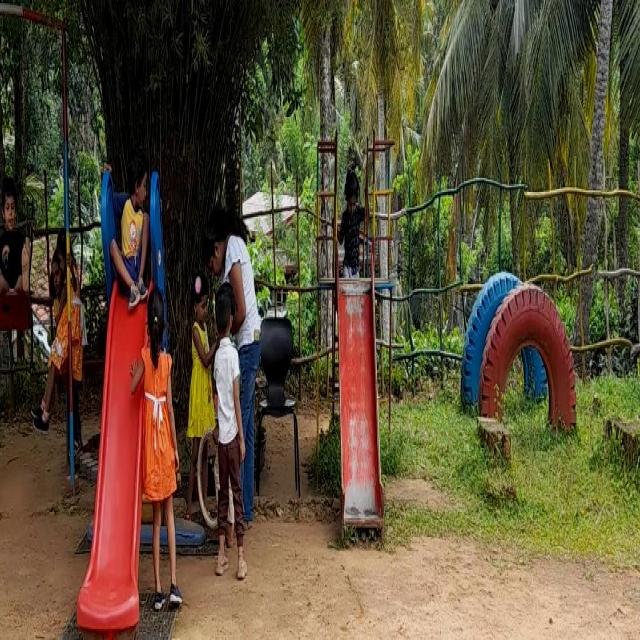child: (145, 293, 175, 589), (213, 284, 246, 550), (181, 278, 210, 509), (0, 128, 29, 318)
